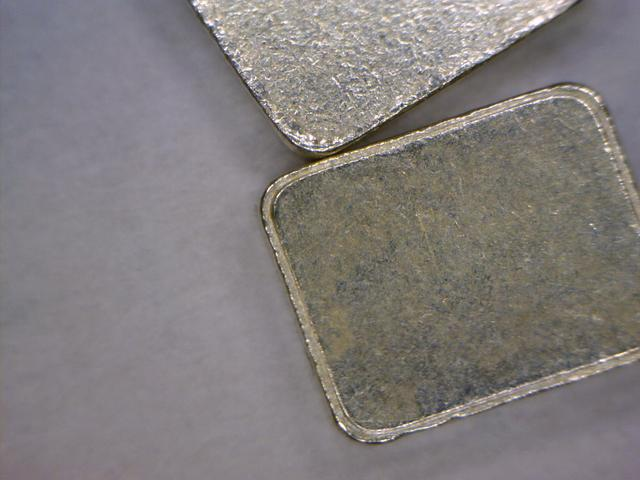nok: (251, 75, 638, 449)
